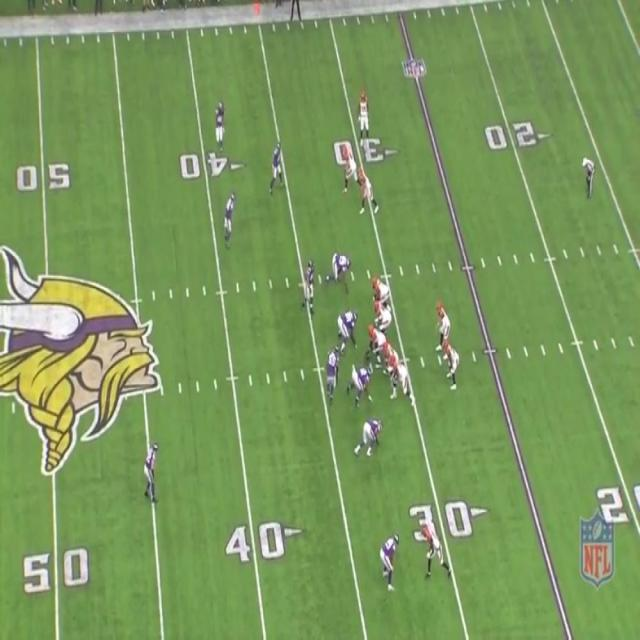center: (366, 325, 384, 363)
db: (382, 536, 399, 590), (142, 443, 156, 500), (224, 193, 234, 241), (215, 100, 224, 144)
lb: (326, 346, 339, 394), (271, 141, 283, 183), (305, 259, 314, 303)
qb: (436, 301, 449, 345)
